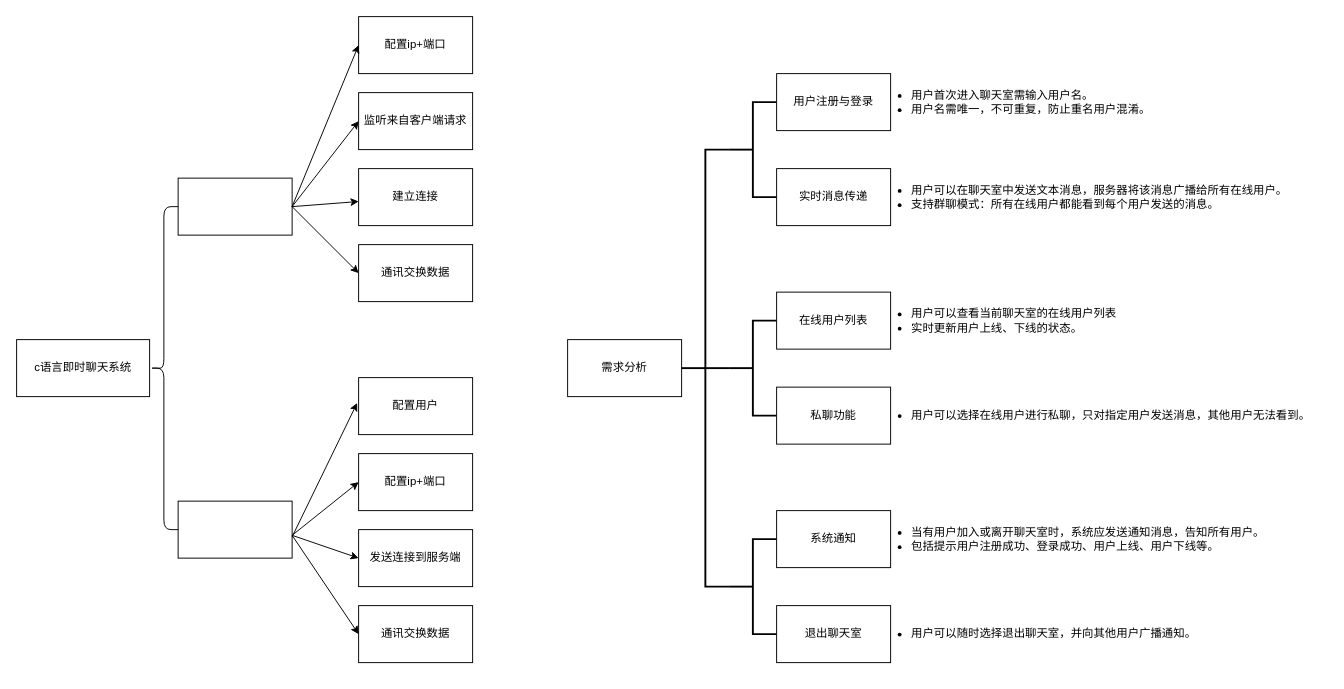
Some shapes in this 1344 by 689 pixel diagram are drawn without their labels. Here are the shapes that lost their labels. From the top down, the box of each, then its label:
(177, 177, 292, 235): 服务端
(177, 500, 292, 558): 客户端
